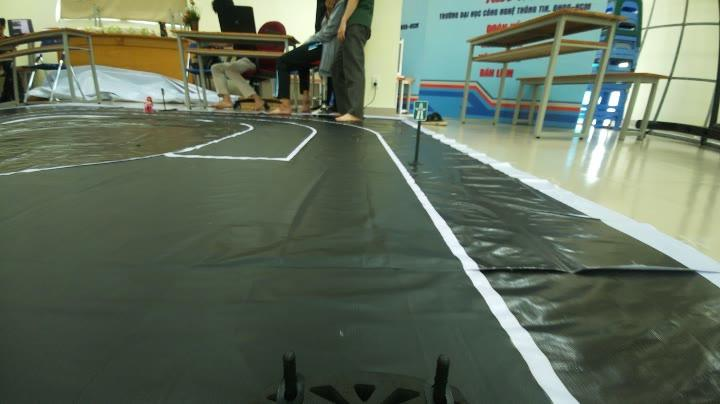highway_entry: (410, 96, 429, 128)
